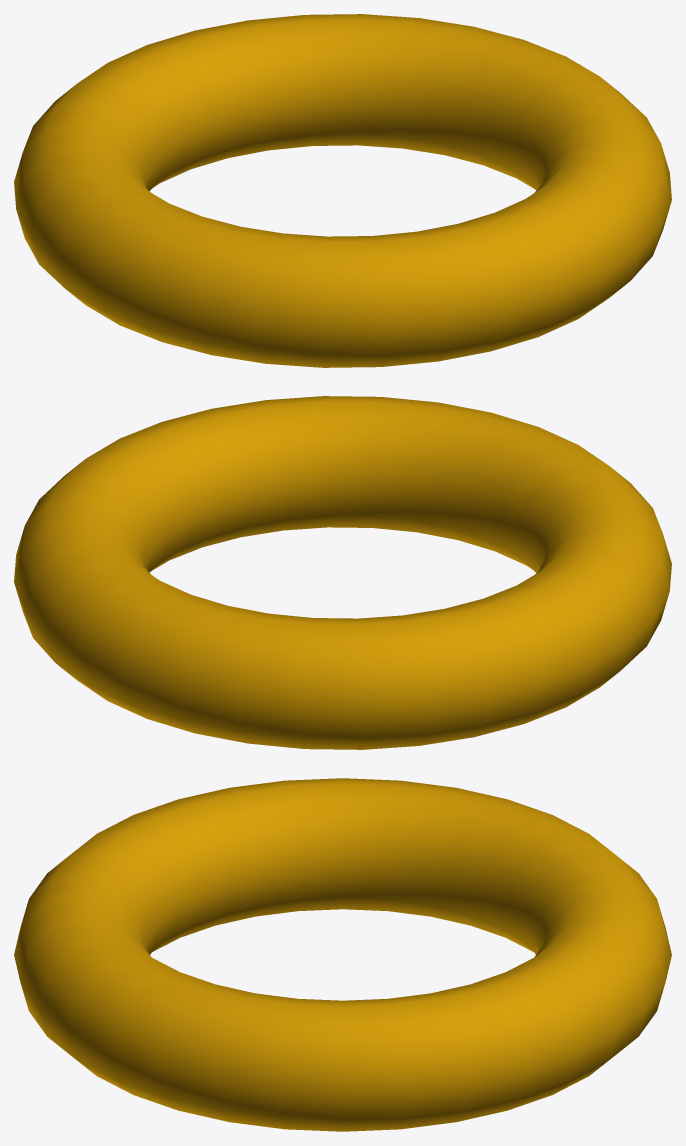
Rendered from ring.obj.
The picture shows the model from 3 angles, top to bottom: view 1: azimuth 30°, elevation 25°; view 2: azimuth 150°, elevation 25°; view 3: azimuth 270°, elevation 25°; orthographic projection.
Parts seen in each view (by area): view 1: Torus; view 2: Torus; view 3: Torus.
Part boxes in pixels (left/top/right/bottom): Torus: left=14, top=14, right=671, bottom=367; Torus: left=14, top=396, right=671, bottom=749; Torus: left=14, top=778, right=671, bottom=1131.
Bounding box in the file's own units: 1 × 0.2 × 1.
